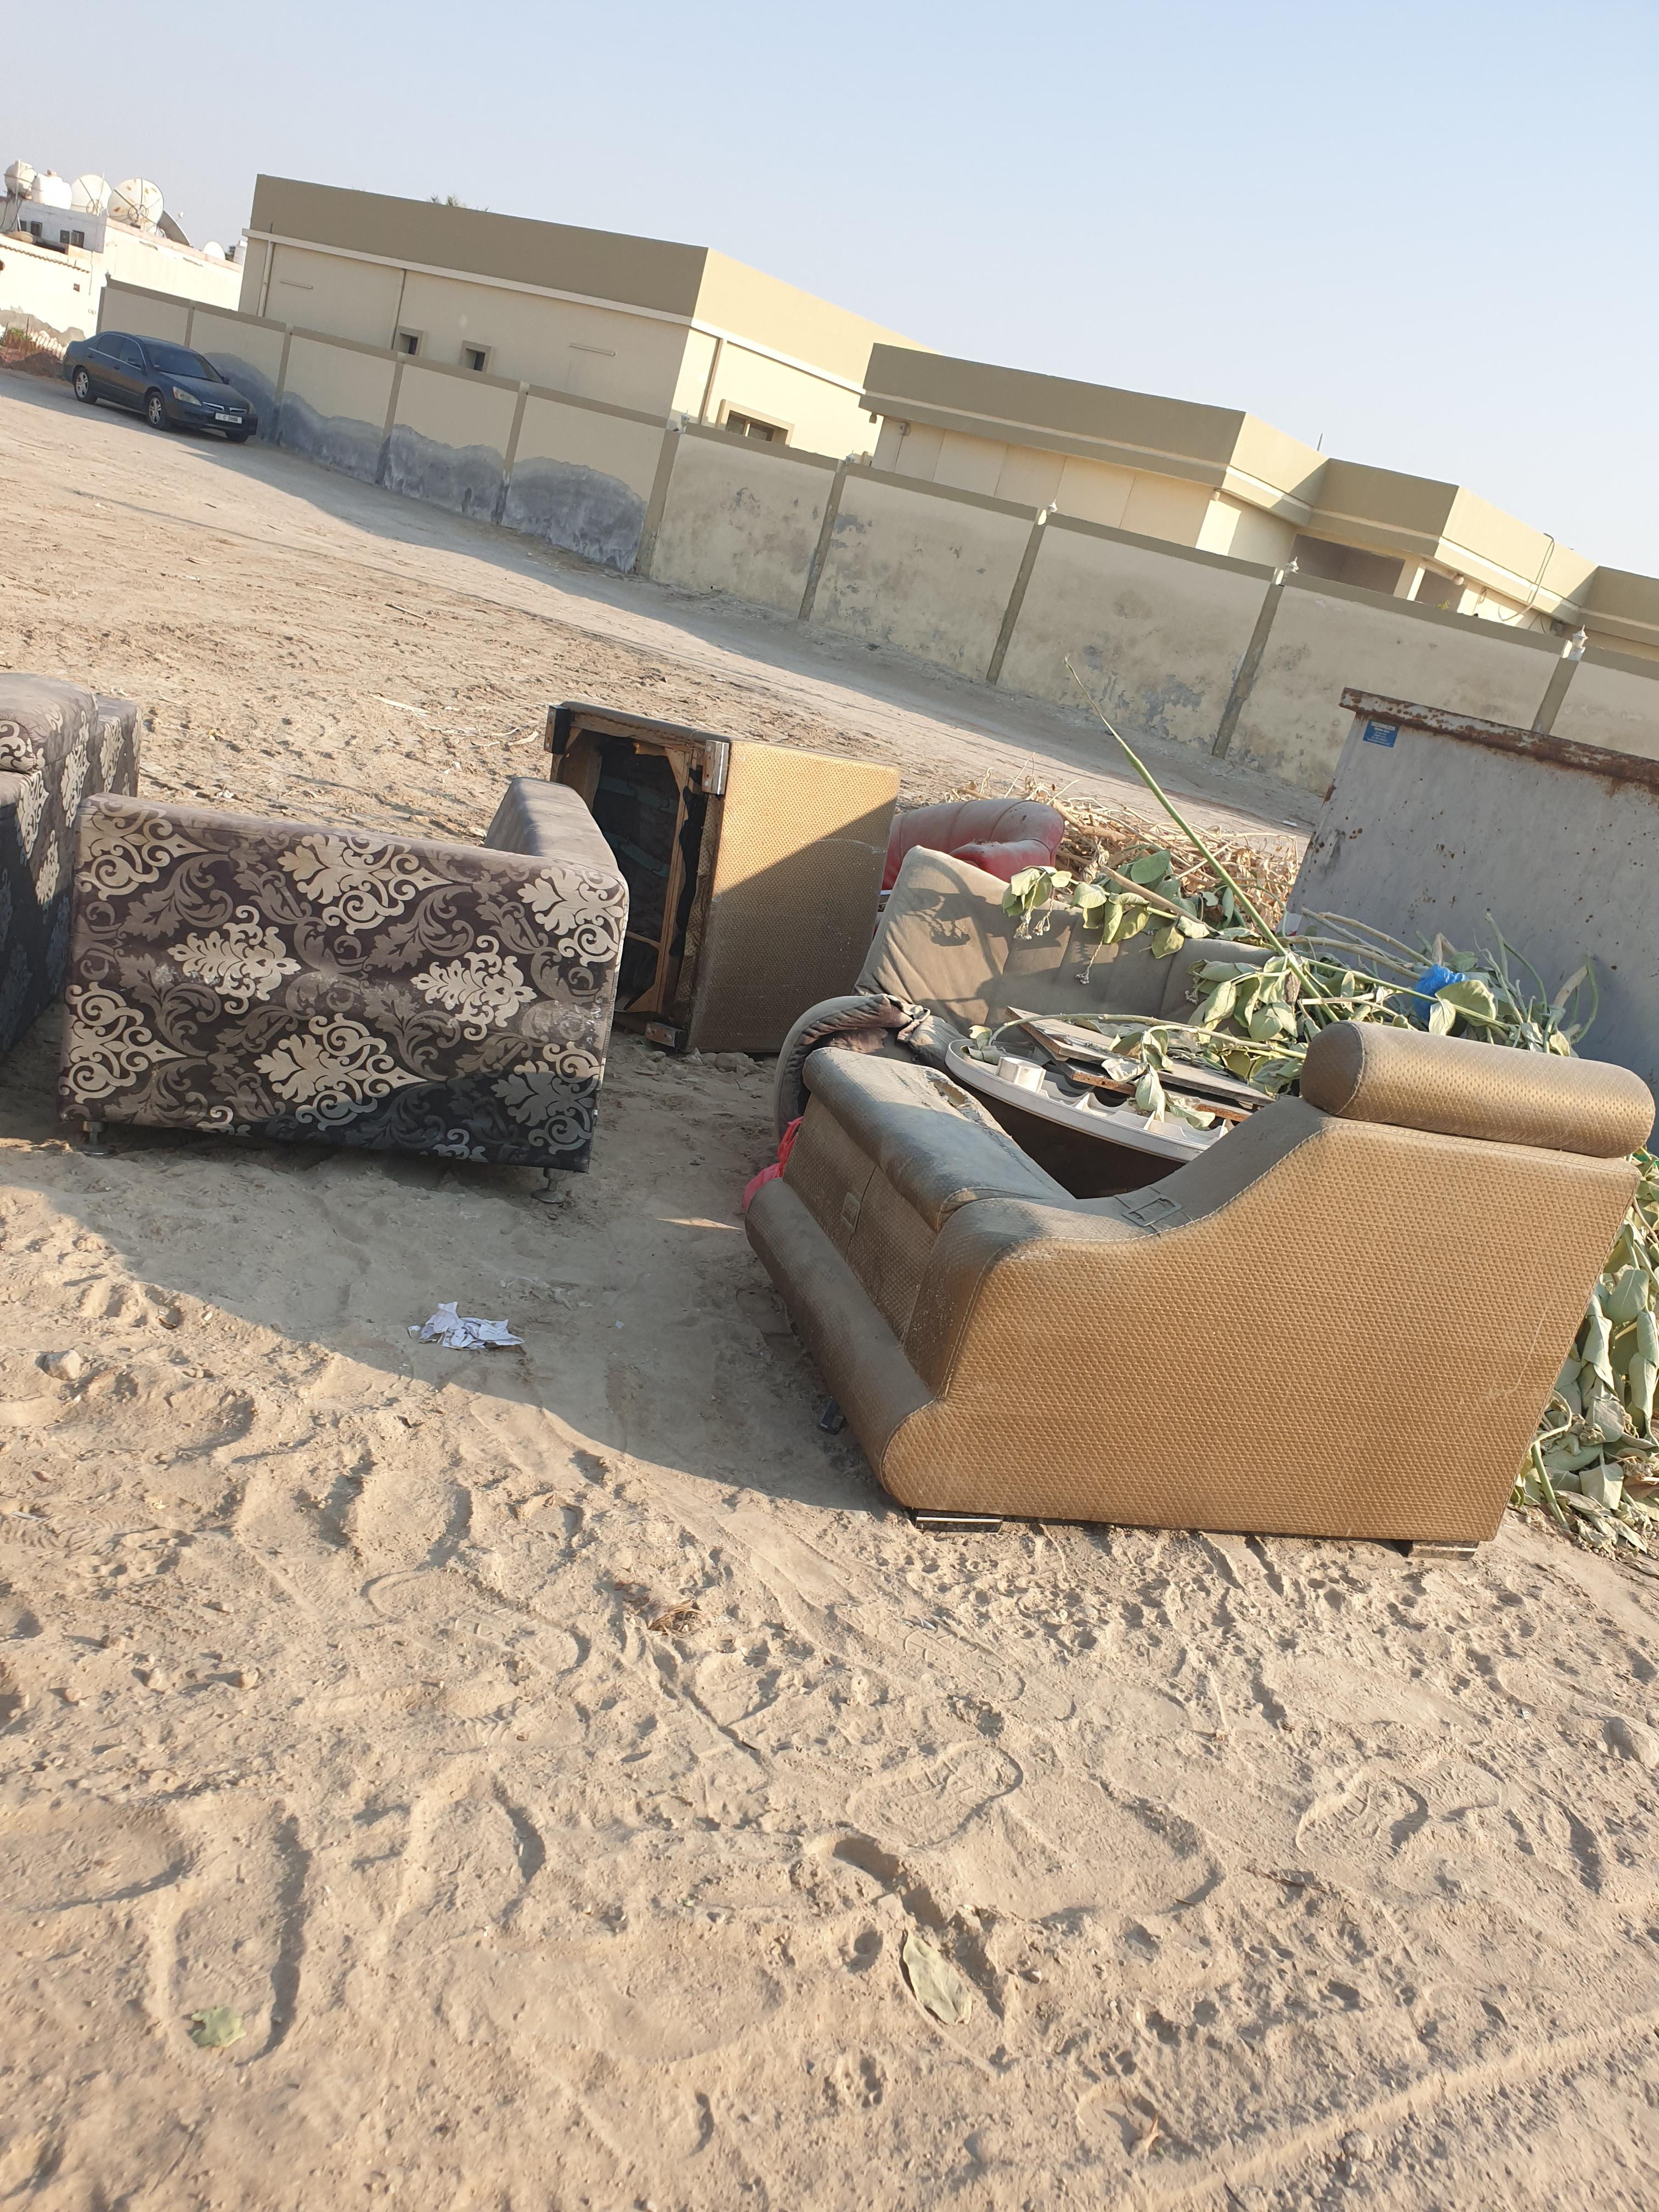fallen_trees: (1009, 784, 1546, 1106)
uncollected_waste: (845, 1106, 1647, 1644), (64, 646, 687, 1264), (338, 705, 1014, 1205)
